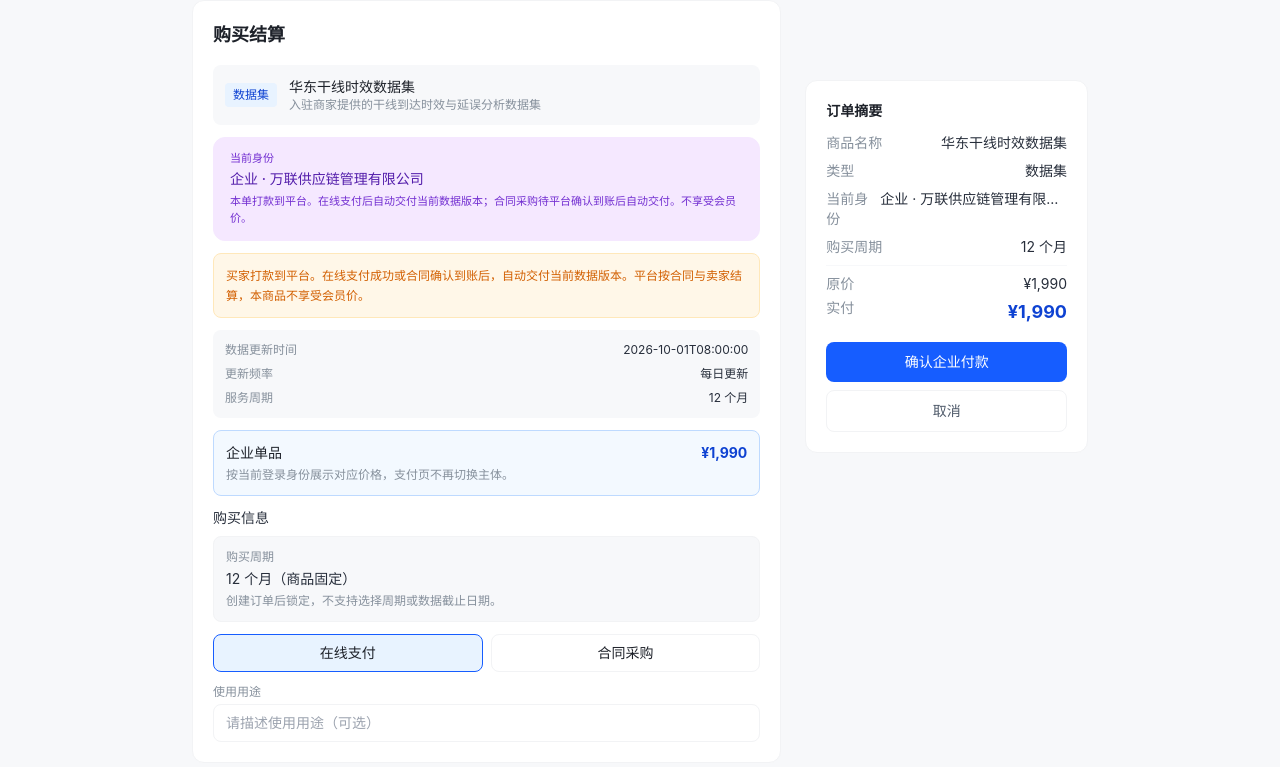
it: PortalCheckout merchant delivery › explains a merchant delisting after checkout opens and blocks submission
The image size is (1280, 767).
Click the button with test id "purchase-final-confirm" at (947, 362), box [826, 342, 1067, 382]
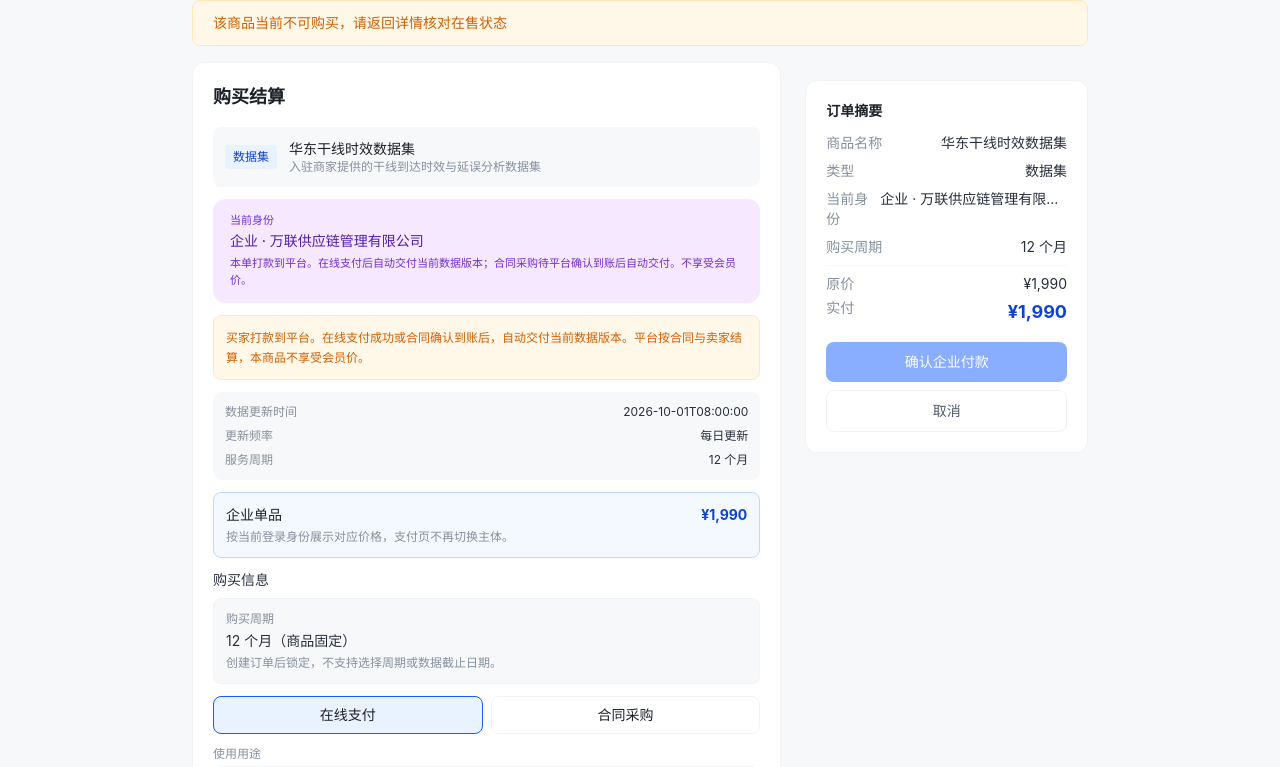
Check: the message "该商品当前不可购买，请返回详情核对在售状态" is shown, box [192, 0, 1088, 46]
